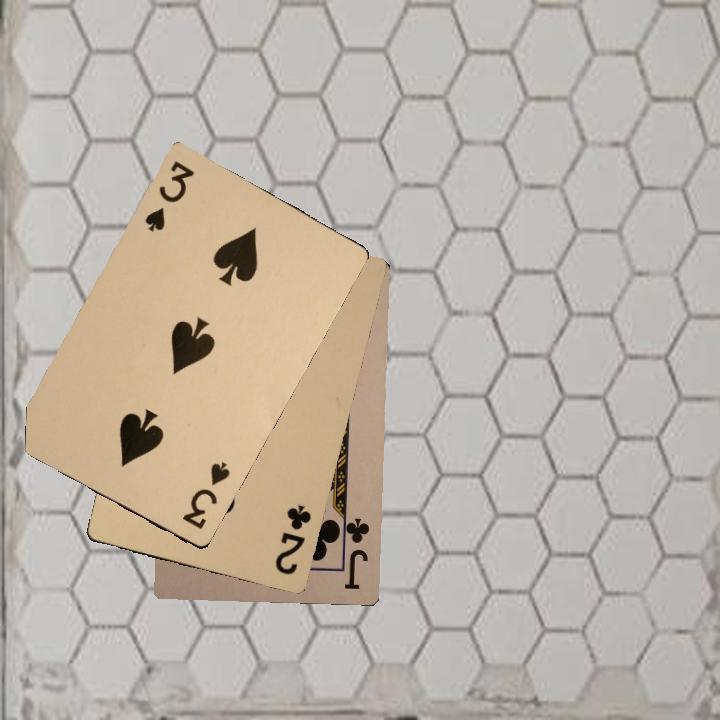2c: (271, 500, 314, 577)
3s: (140, 156, 197, 234), (178, 457, 233, 532)
Jc: (336, 511, 371, 592)
